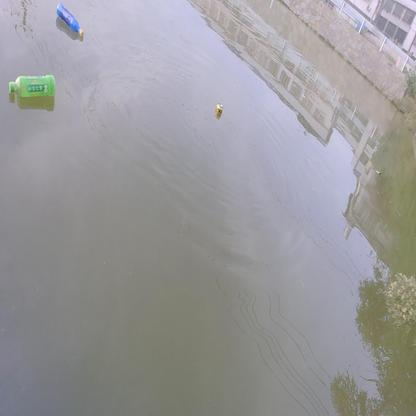can: (216, 103, 224, 113)
plastic bottle: (55, 3, 85, 37), (8, 75, 56, 96)
